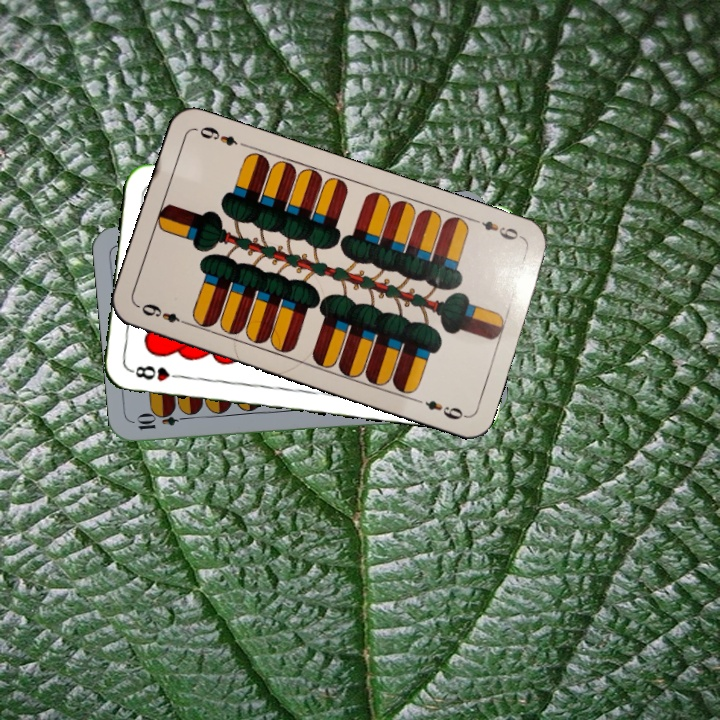E10: (133, 410, 192, 433)
E9: (135, 299, 192, 328), (469, 214, 526, 243)
H8: (127, 361, 186, 384)
